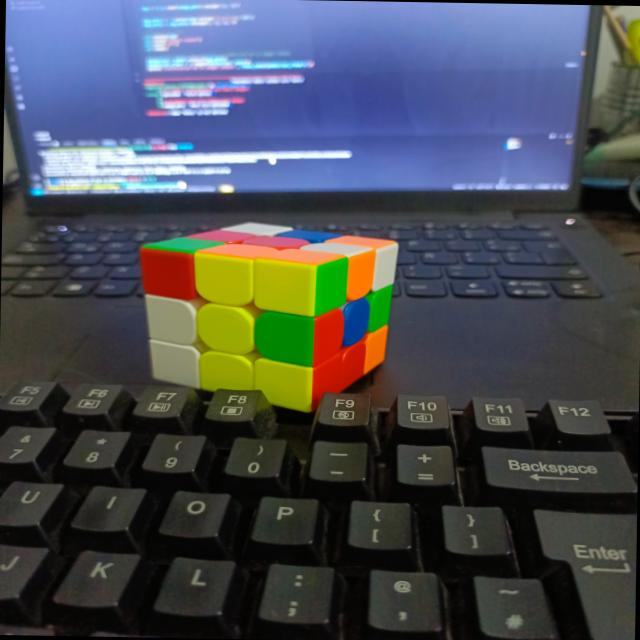rubik: (135, 218, 399, 412)
